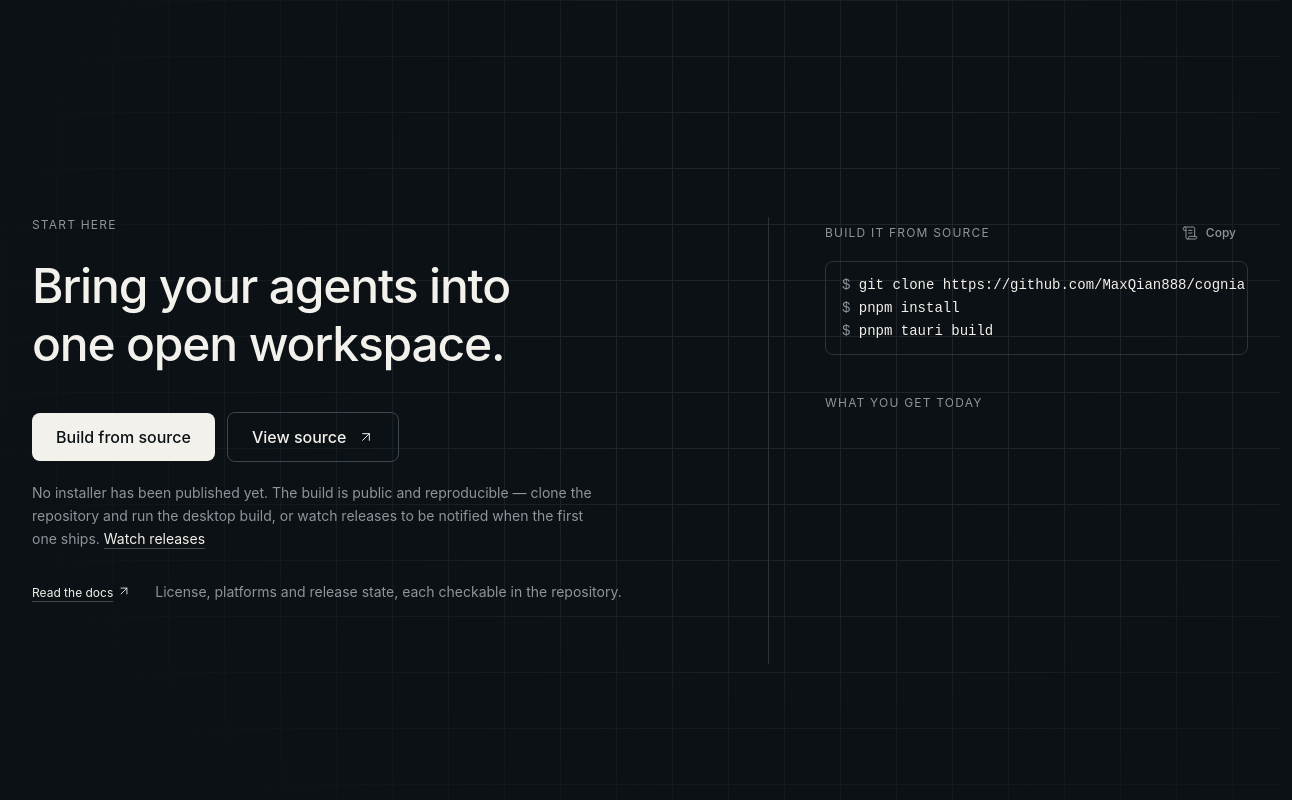
Test: FinalCta build commands › offers one control that copies the commands, one per line
The width and height of the screenshot is (1292, 800).
Click the button "Copy": (1209,233) left=1170, top=217, right=1248, bottom=249
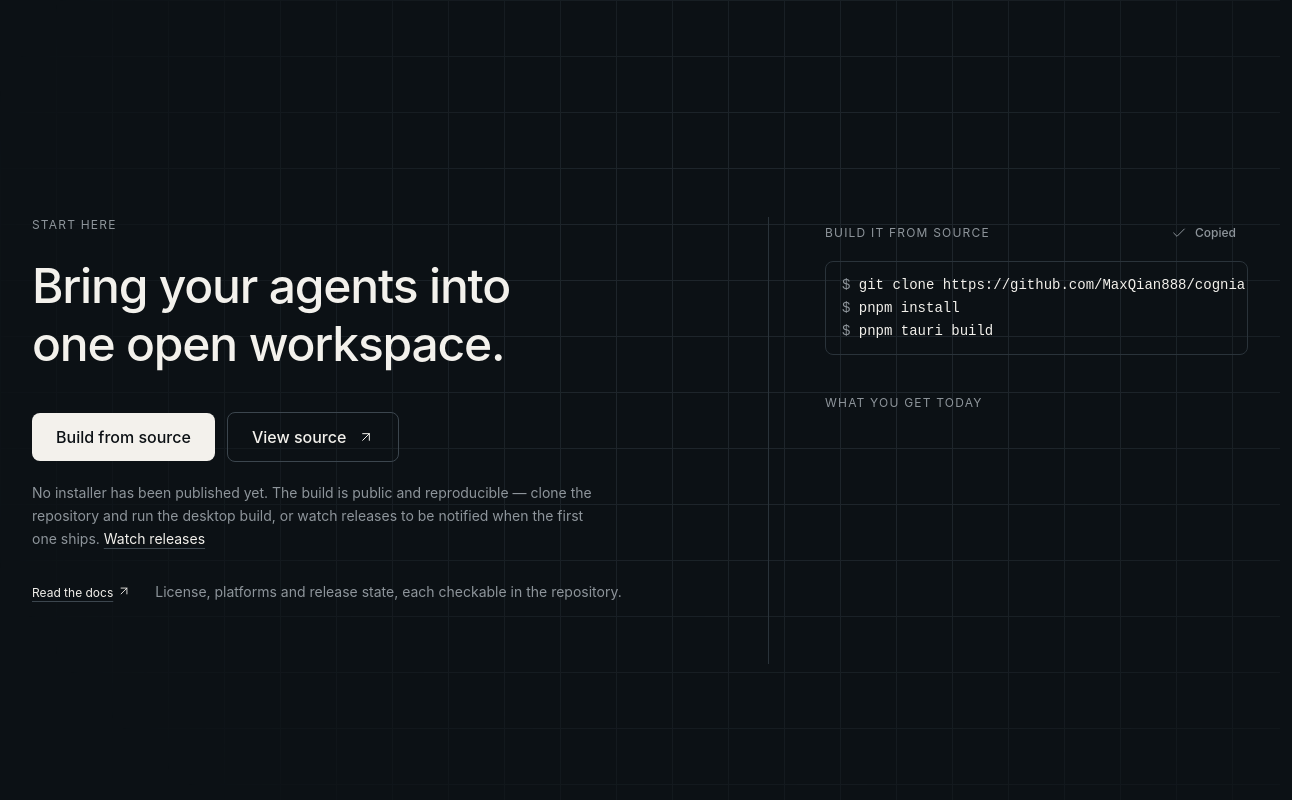
expect the text "Copied" is shown: met, box left=1195, top=225, right=1236, bottom=241
